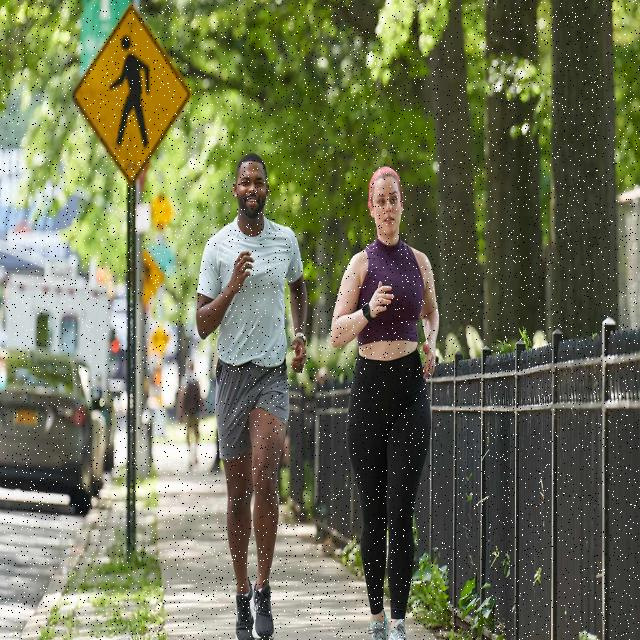Person: (194, 154, 308, 640), (332, 166, 439, 640)
